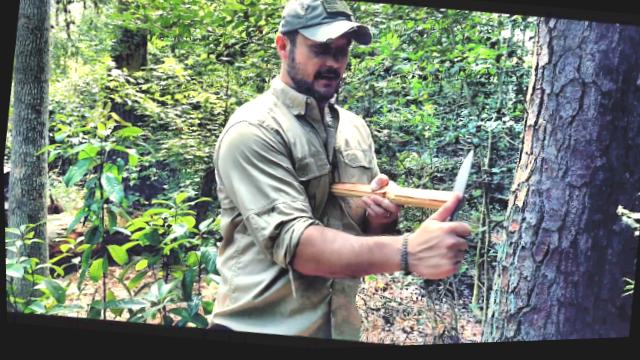knife: (407, 141, 486, 264)
